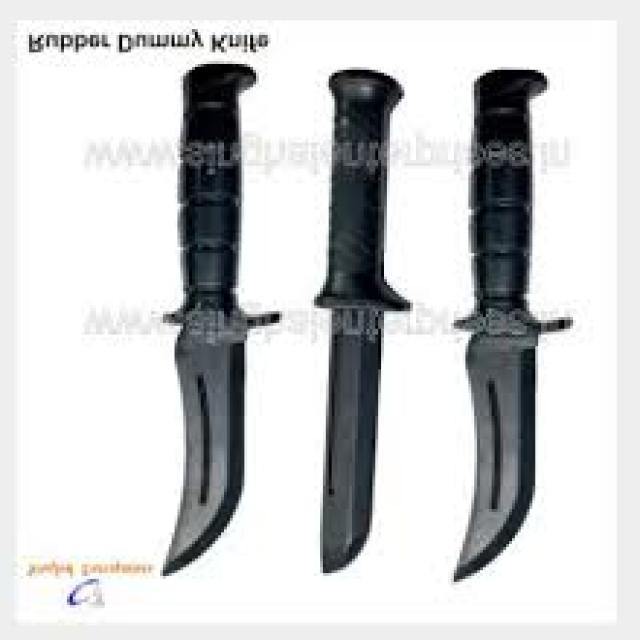Gun: (144, 62, 278, 592), (282, 68, 418, 586)
